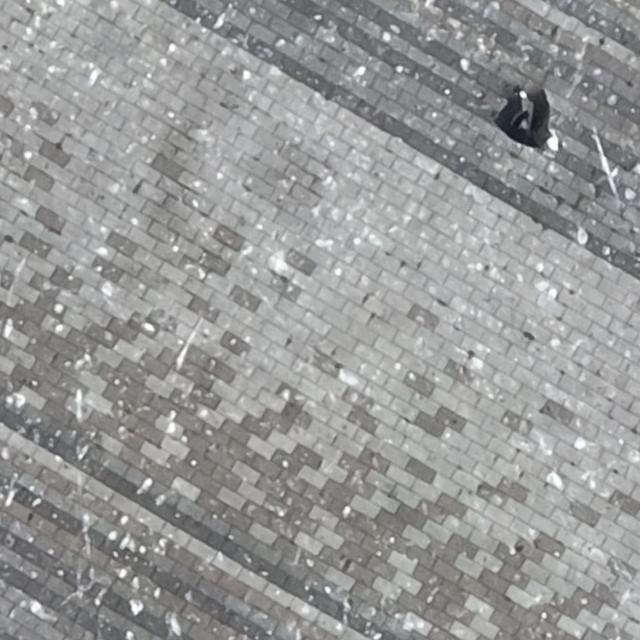F: (512, 95, 558, 152)
